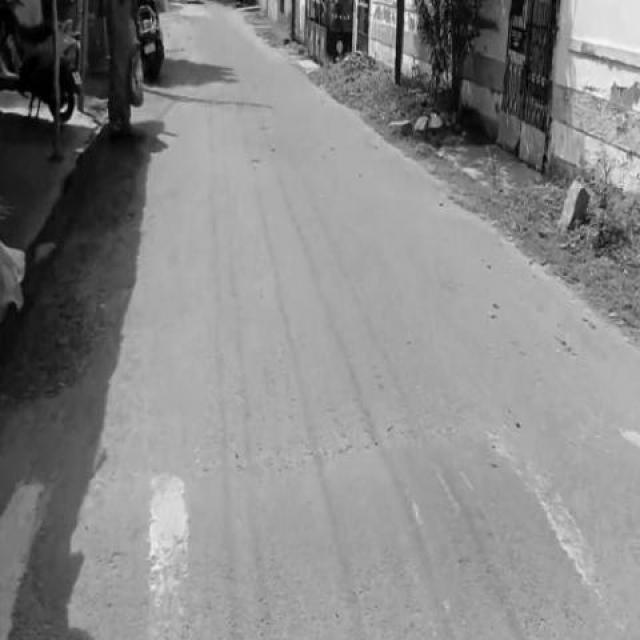Speed Bump: (0, 422, 639, 640)
